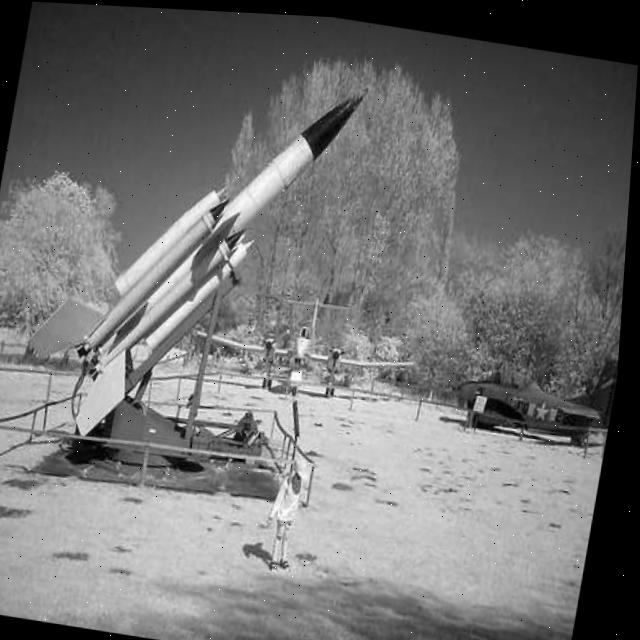missile: (11, 29, 375, 472)
